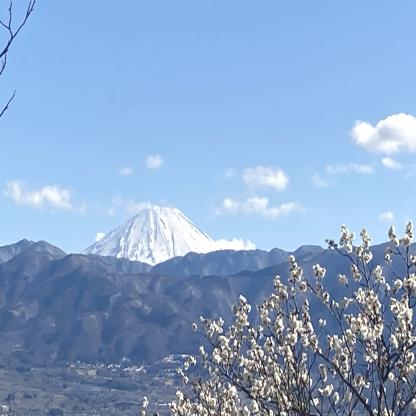Ume: (135, 218, 416, 416)
